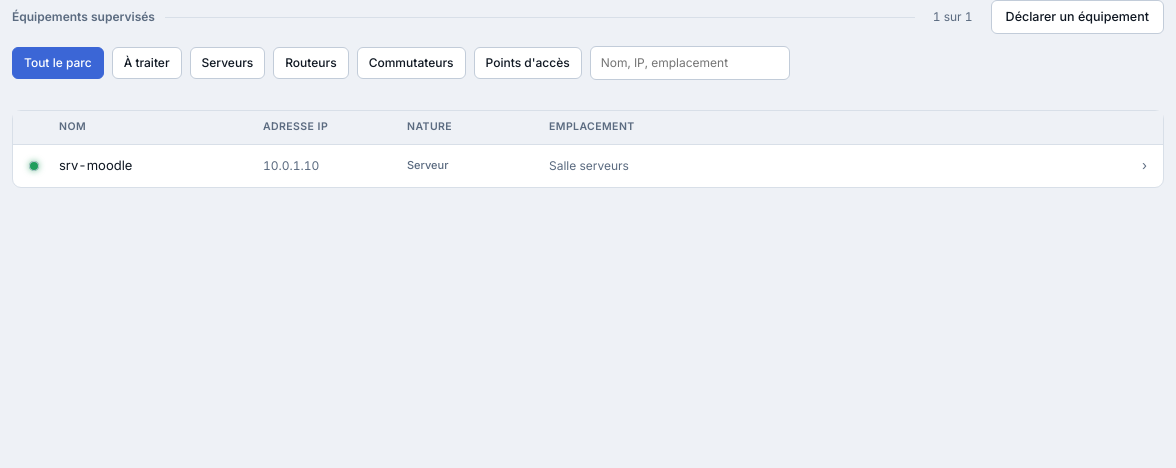
Test: EquipementsPage › ouvre la fiche d'un équipement au clic sur sa ligne
This screenshot has width=1176, height=468.
Click the button "srv-moodle 10.0.1.10 Serveur Salle serveurs ›".
click(588, 166)  # box [13,144,1163,186]
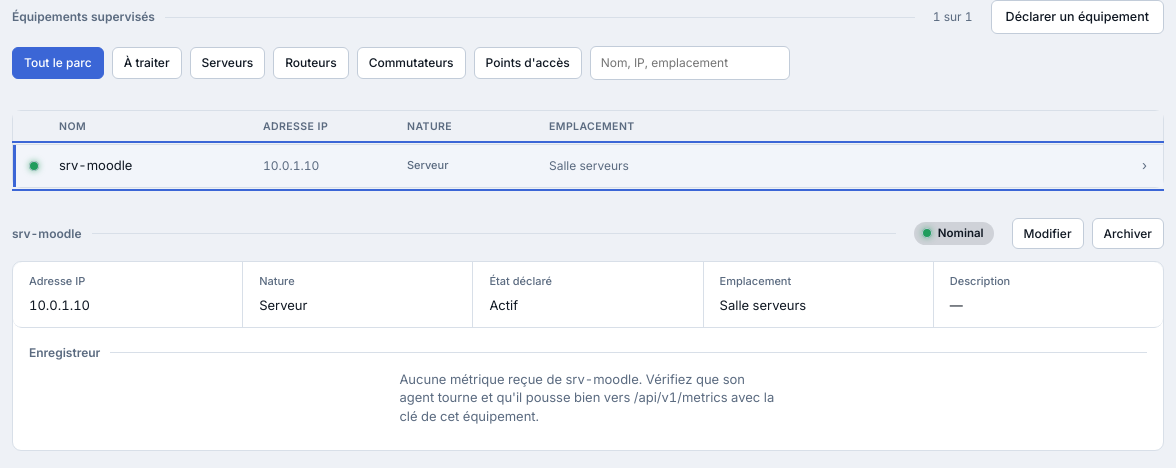
Now the heading "srv-moodle" is shown, box [12,226,82,240]
